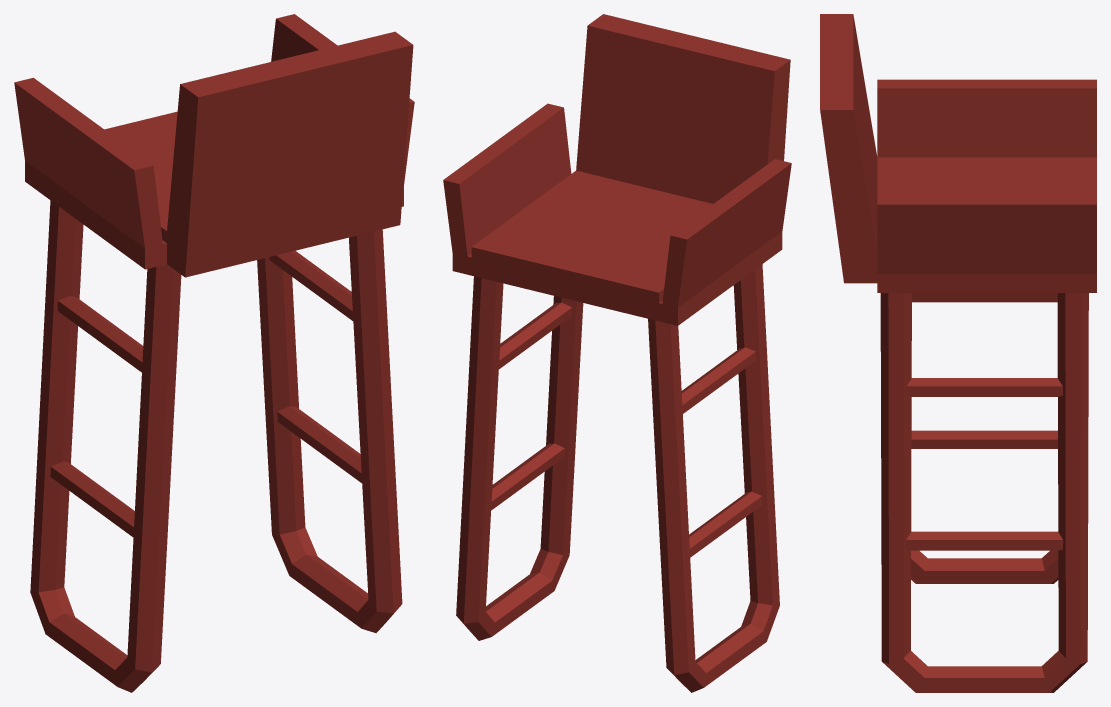
File: ghegiamkhao.fbx
3 views of the same model, side by side, from view 1: azimuth 30°, elevation 25°; view 2: azimuth 150°, elevation 25°; view 3: azimuth 270°, elevation 25° (orthographic). The views are drawn at different scales.
Parts seen in each view (by area): view 1: ghegiamkhao; view 2: ghegiamkhao; view 3: ghegiamkhao.
Boxes of the visible parts, bbox=[...] form: ghegiamkhao: bbox=[14, 14, 414, 692]; ghegiamkhao: bbox=[443, 14, 791, 692]; ghegiamkhao: bbox=[820, 14, 1096, 692].
Bounding box in the file's own units: 200 × 429 × 187.
